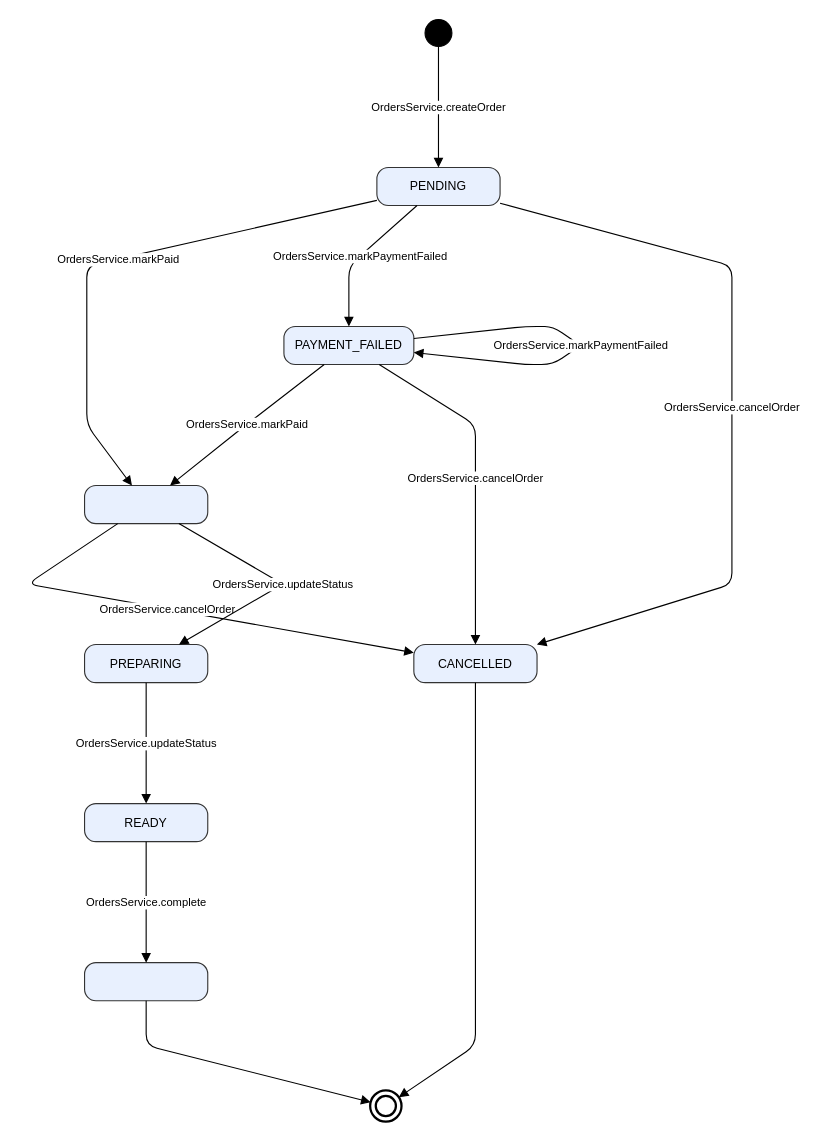
Image size: 819x1142. Some labels were removed from this diagram. Each missing label, with the centre of its shape:
COMPLETED: the point at 145,981
PAID: the point at 145,504
